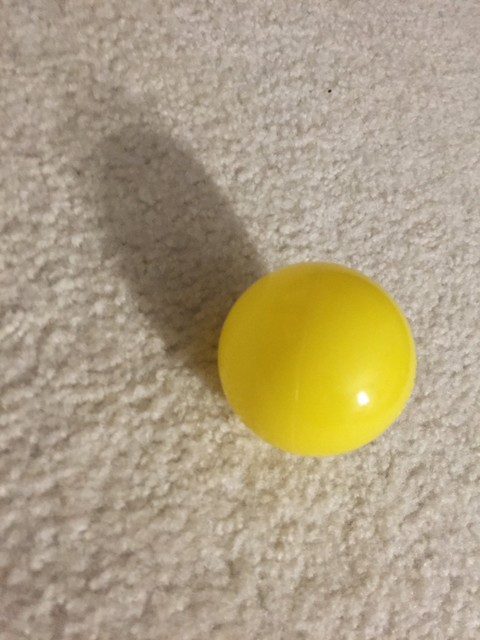ball: (211, 258, 417, 460)
